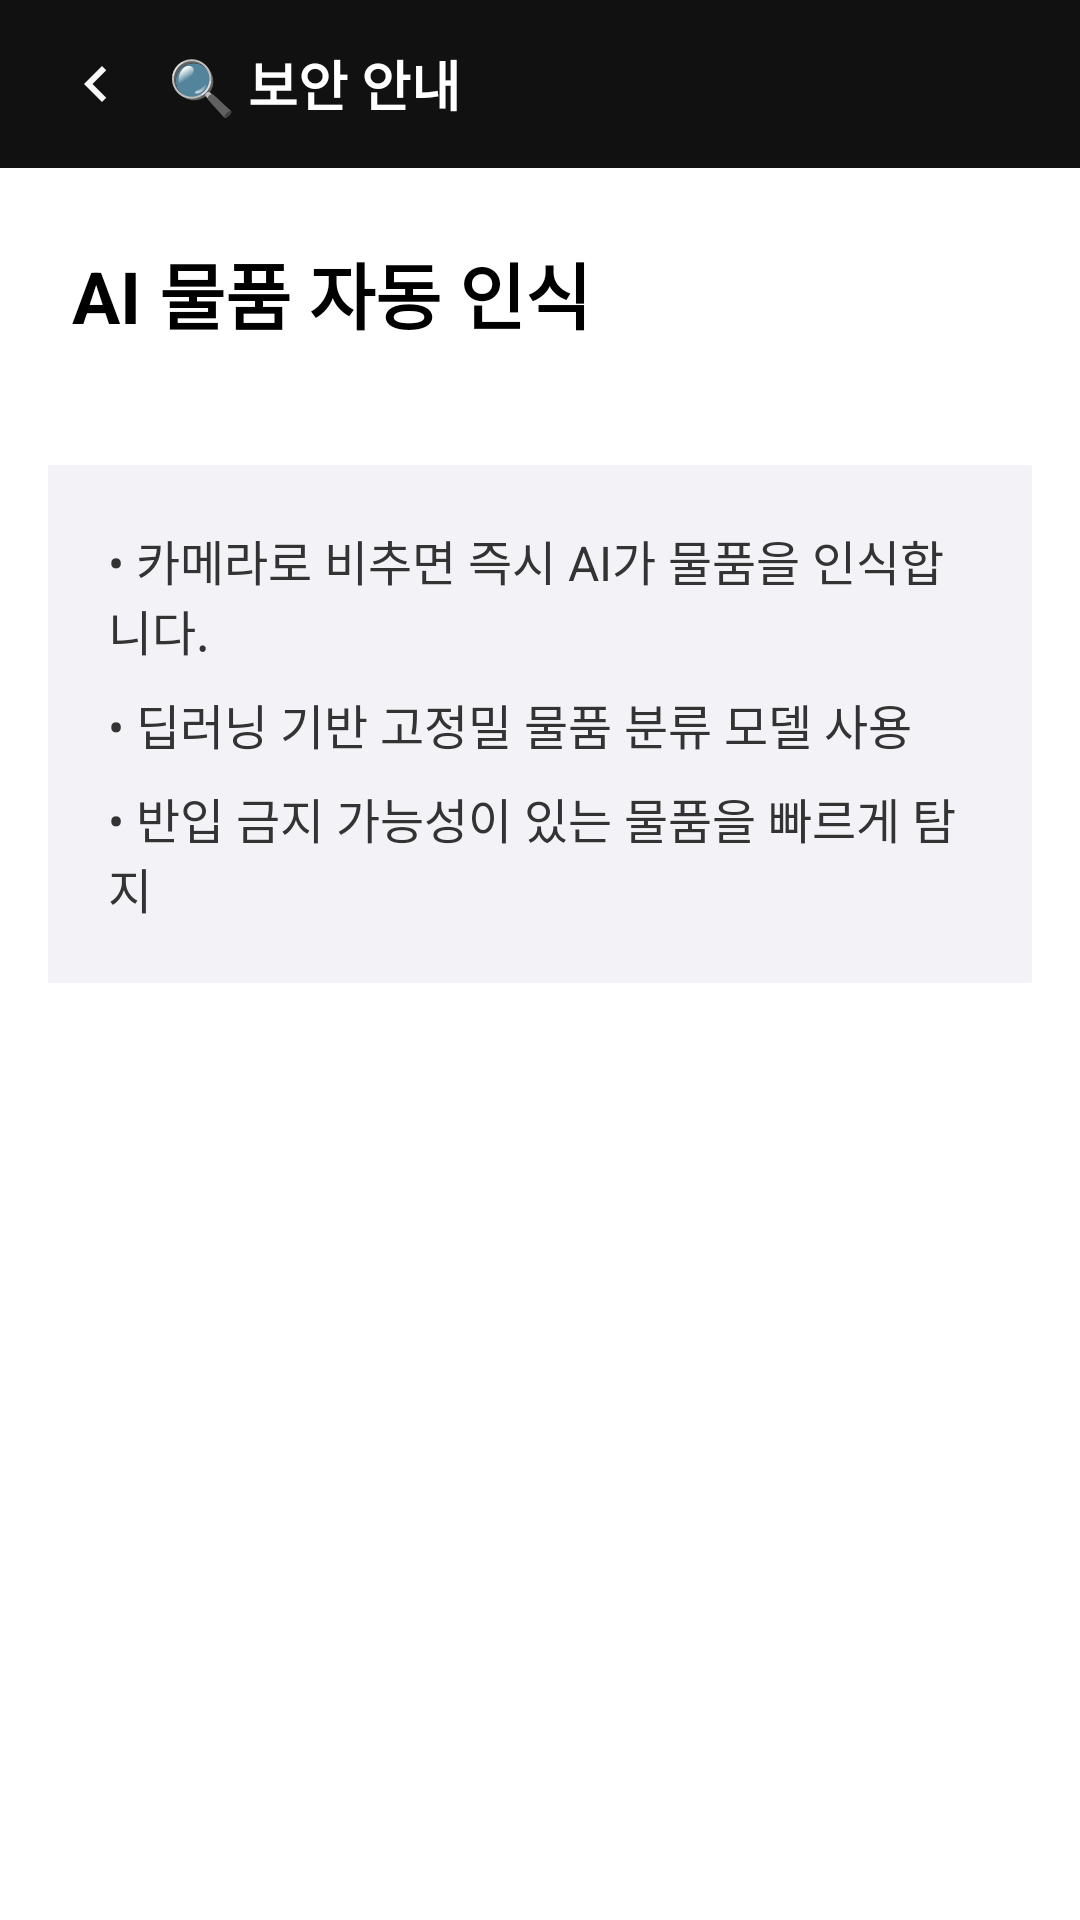

Where icons sit on this 1080 x 1920 app screen, as (x1, y1, x2, y2):
back: (84, 66, 106, 102)
